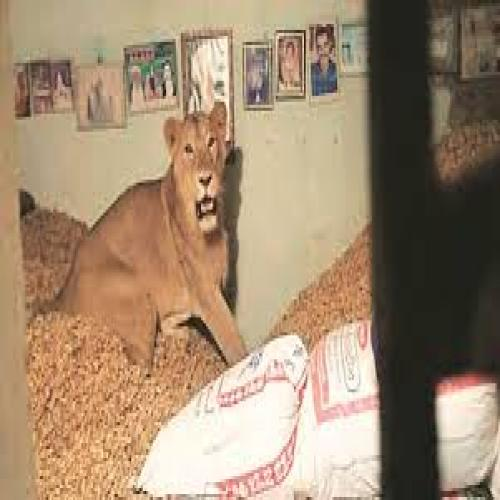lion-endangered: (48, 103, 250, 369)
